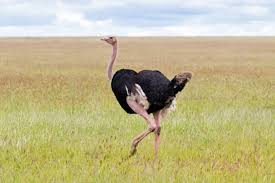Walking: (86, 17, 211, 181)
